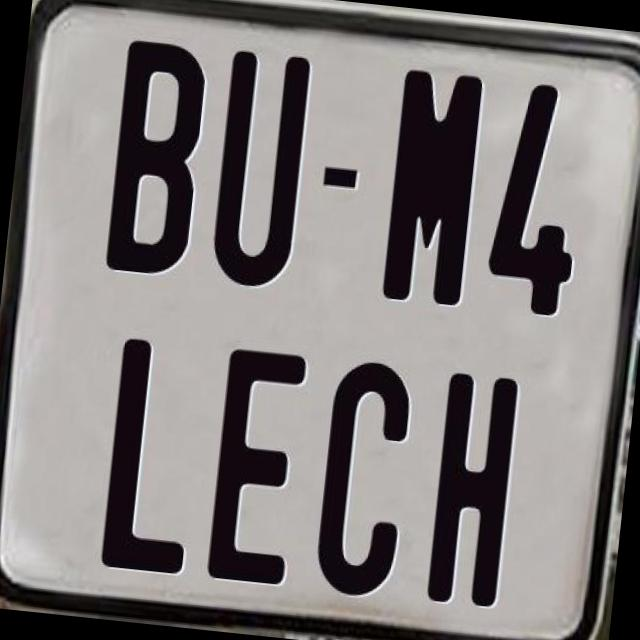4: (480, 80, 591, 320)
B: (102, 36, 206, 277)
C: (312, 356, 423, 604)
E: (205, 344, 308, 585)
H: (426, 372, 524, 614)
L: (97, 336, 206, 574)
M: (381, 63, 488, 303)
U: (205, 49, 314, 298)
